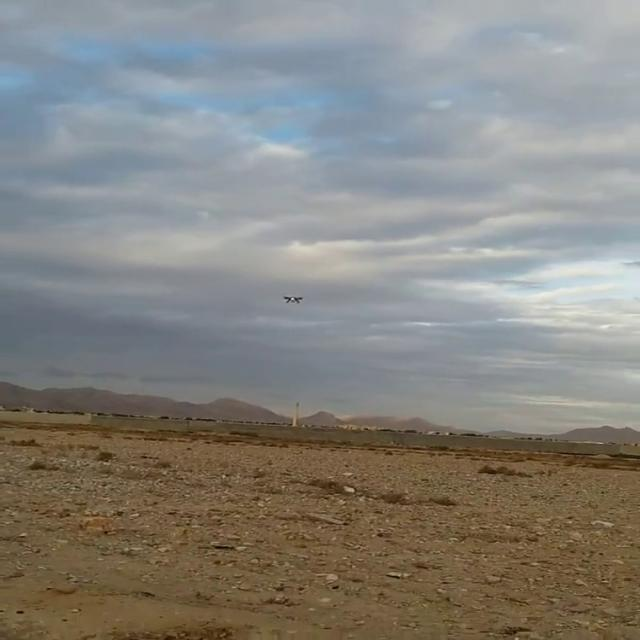drone: (280, 292, 306, 306)
